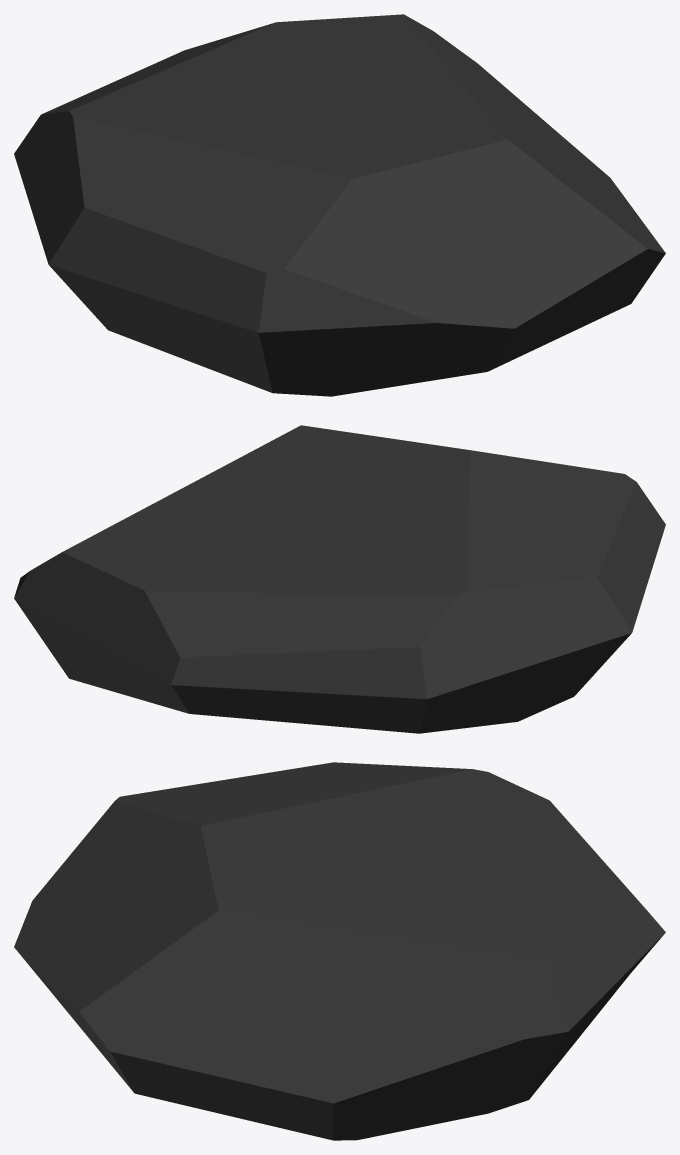
The model's file is stone0.fbx.
The picture shows the model from 3 angles, top to bottom: view 1: azimuth 30°, elevation 25°; view 2: azimuth 150°, elevation 25°; view 3: azimuth 270°, elevation 25°; orthographic projection. The views are drawn at different scales.
Parts seen in each view (by area): view 1: stone0; view 2: stone0; view 3: stone0.
Part boxes in pixels (bbox=[...]): stone0: bbox=[14, 14, 665, 396]; stone0: bbox=[14, 425, 665, 733]; stone0: bbox=[14, 762, 665, 1140].
Size of the model in its own units: 117 by 40.47 by 122.
